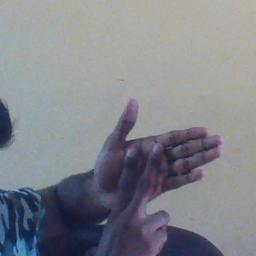N: (84, 97, 232, 254)
